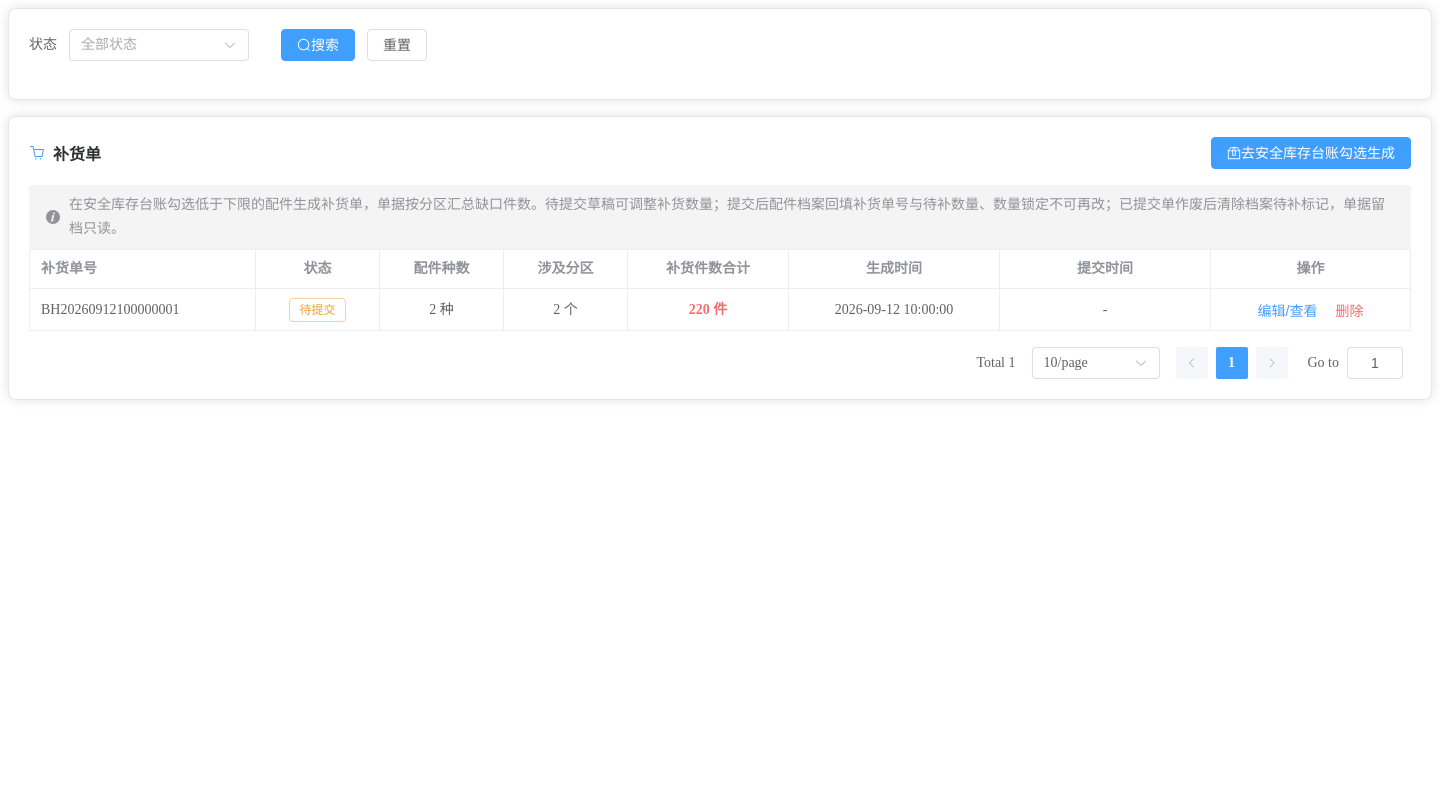
Test: 补货单列表 › 详情抽屉按分区汇总缺口件数，未分配分区殿后
Click the button "编辑/查看".
click(1287, 311)  # box [1254,301,1320,321]
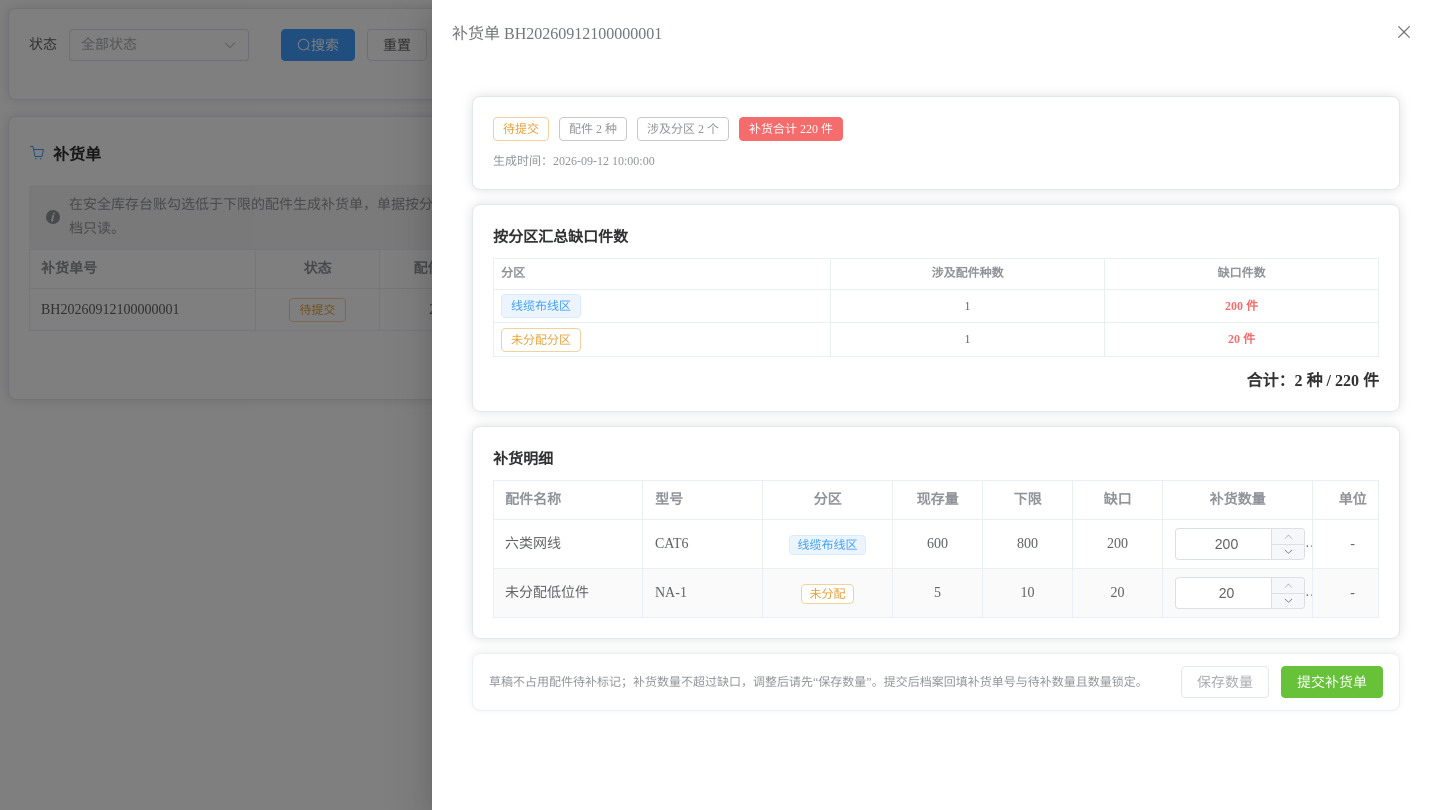
expect the row "线缆布线区 1 200 件" is shown: met, box [493,290,1379,323]
expect the row "未分配分区 1 20 件" is shown: met, box [493,323,1379,356]
expect the dialog shows "合计：2 种 / 220 件": met, box [1246,372,1379,388]
